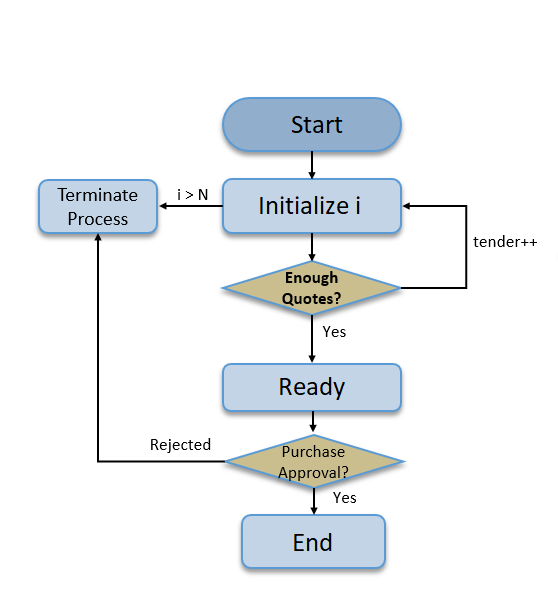arrow: (92, 232, 228, 466), (399, 200, 470, 292), (159, 198, 226, 212), (306, 311, 319, 362), (306, 230, 319, 265), (305, 146, 317, 179), (309, 485, 320, 516), (306, 407, 318, 433)
decision: (225, 433, 408, 494), (217, 259, 405, 318)
process: (219, 176, 405, 238), (218, 359, 406, 416), (237, 511, 388, 572), (32, 175, 163, 237)
terminator: (217, 94, 403, 156)
text: (54, 184, 142, 229), (276, 444, 352, 482), (256, 193, 363, 217), (279, 269, 342, 308), (277, 375, 348, 402), (288, 113, 346, 134), (290, 529, 335, 556), (146, 436, 216, 453), (471, 235, 541, 249), (329, 489, 360, 506), (174, 186, 209, 201), (320, 324, 348, 341)
